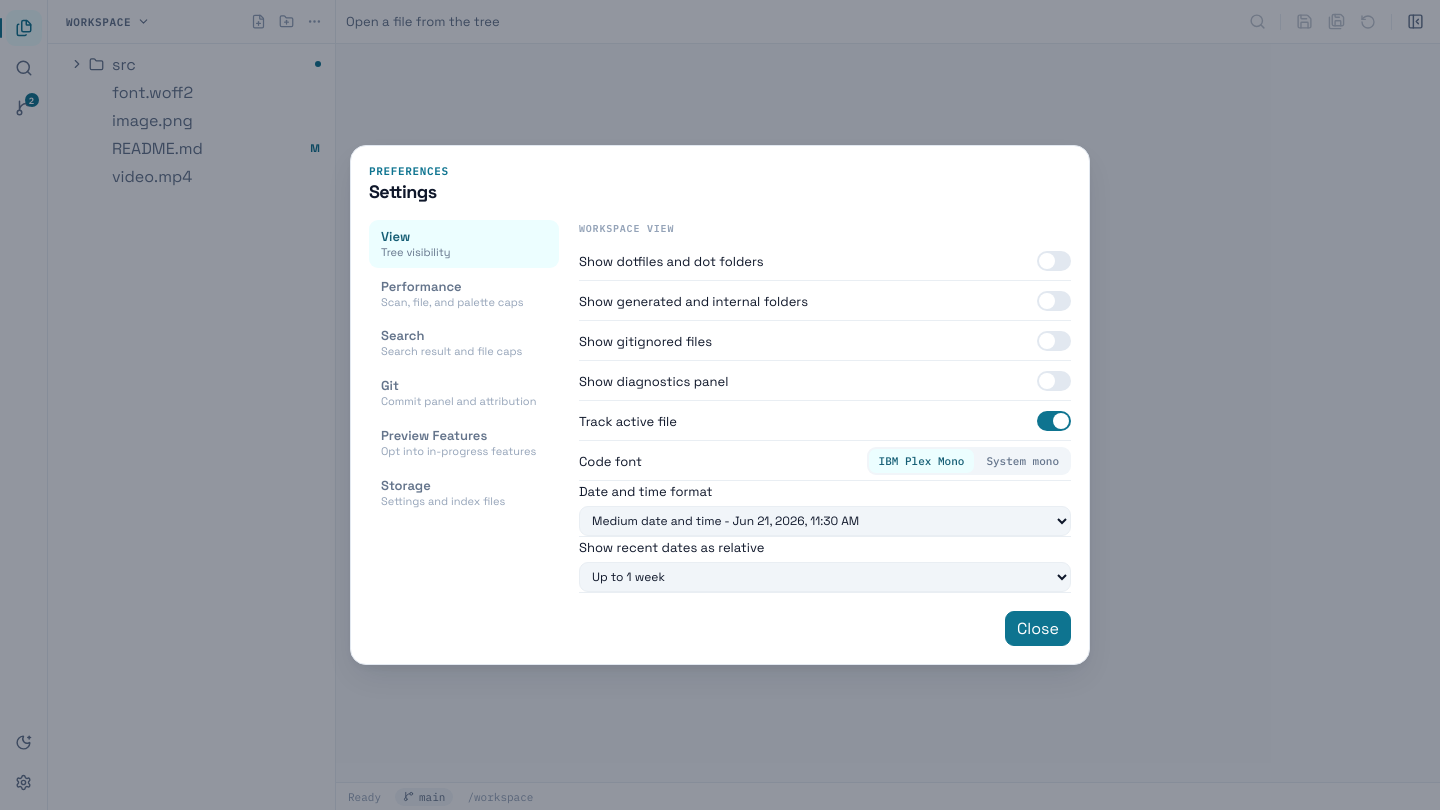
it: App shell interactions › groups settings into selectable categories
Expected: the list item "README.md" is shown, [64,134,327,162]
Expected: the checkbox labelled "Show dotfiles and dot folders" is shown, [1037,251,1071,271]
Click the tab "Performance Scan, file, and palette caps" at (464, 293), box [369,270,559,317]
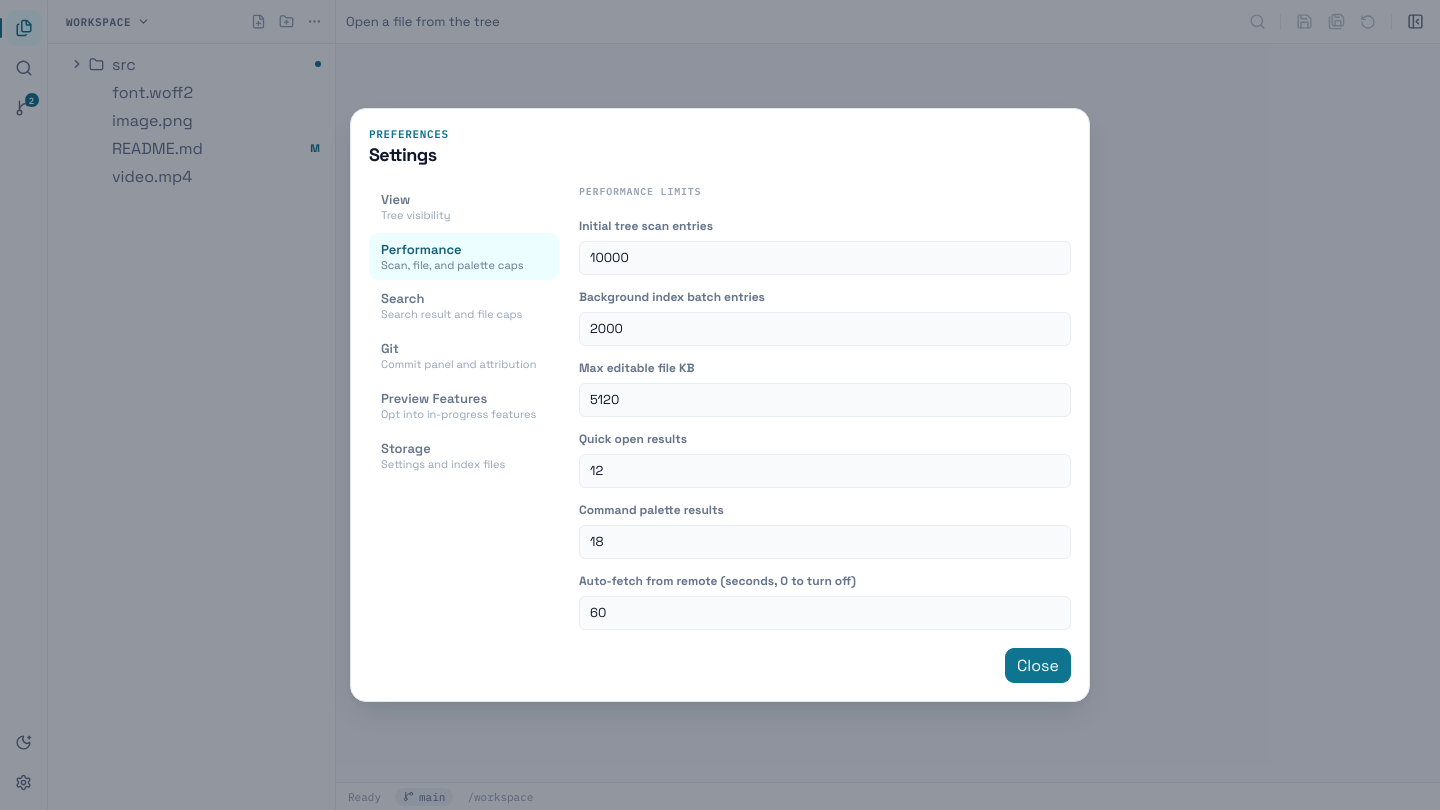
Now the text labelled "Show dotfiles and dot folders" is gone
Now the text labelled "Date and time format" is gone
Now the text labelled "Show recent dates as relative" is gone
